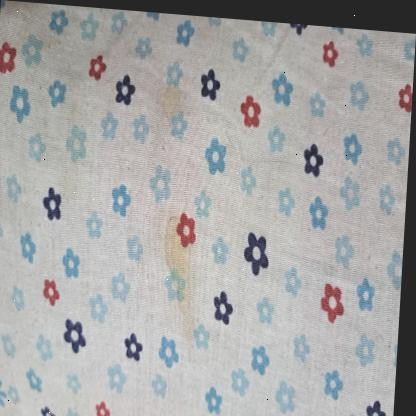spot: (168, 188, 201, 337), (151, 196, 210, 270), (151, 72, 185, 130)
